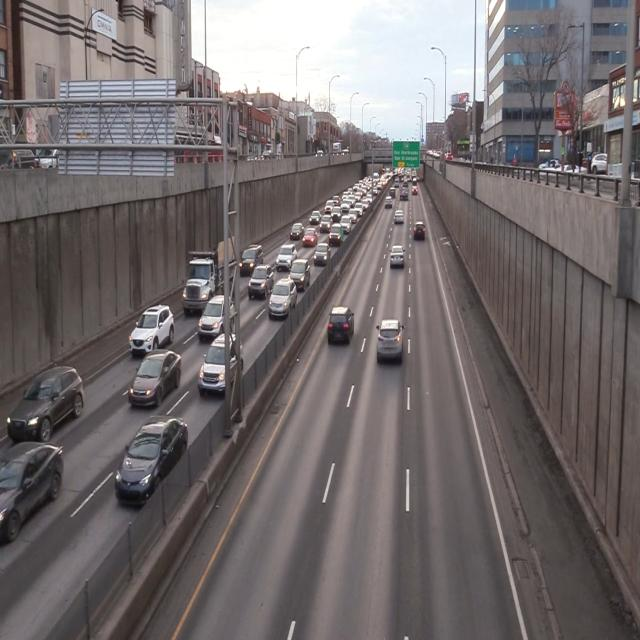Car: (114, 414, 190, 512), (4, 362, 85, 444), (126, 350, 187, 410), (198, 333, 242, 400), (128, 303, 176, 356), (197, 294, 237, 340), (375, 315, 406, 365), (326, 301, 356, 348), (268, 280, 300, 320), (247, 260, 273, 304), (387, 246, 406, 271)
